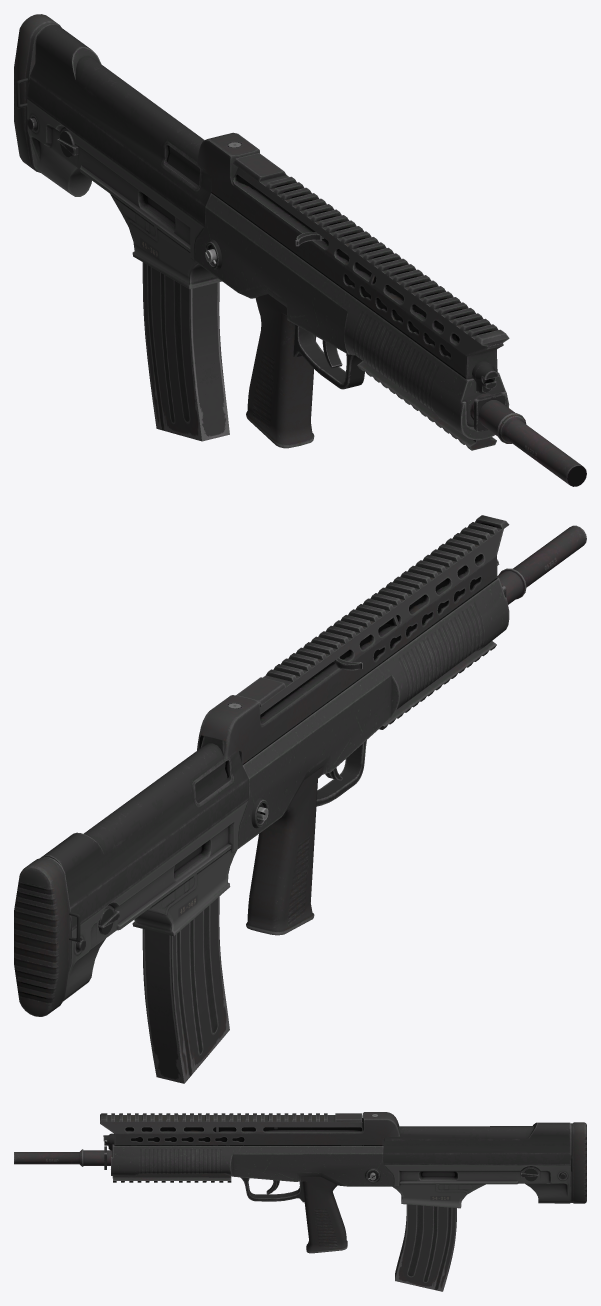
File: raw.glb
3 views of the same model, one above another, from view 1: azimuth 30°, elevation 25°; view 2: azimuth 150°, elevation 25°; view 3: azimuth 270°, elevation 25° (orthographic). The views are drawn at different scales.
Parts seen in each view (by area): view 1: type97_LOD0; view 2: type97_LOD0; view 3: type97_LOD0.
Part boxes in pixels (<box>): type97_LOD0: <box>14,14,586,486</box>; type97_LOD0: <box>14,515,586,1083</box>; type97_LOD0: <box>14,1112,586,1291</box>.
Bounding box in the file's own units: 0.0474 × 0.2272 × 0.6822.
1 material, 1 textured.
